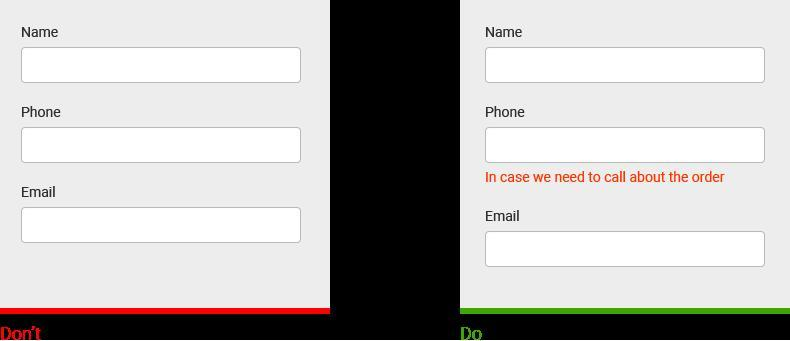input: (23, 48, 303, 84), (486, 128, 765, 164), (486, 232, 765, 268), (23, 128, 302, 163), (22, 208, 301, 242), (487, 49, 766, 83)
label: (484, 104, 528, 119), (21, 105, 64, 120), (484, 25, 524, 40), (21, 26, 59, 40), (22, 186, 60, 200), (484, 211, 523, 224)
